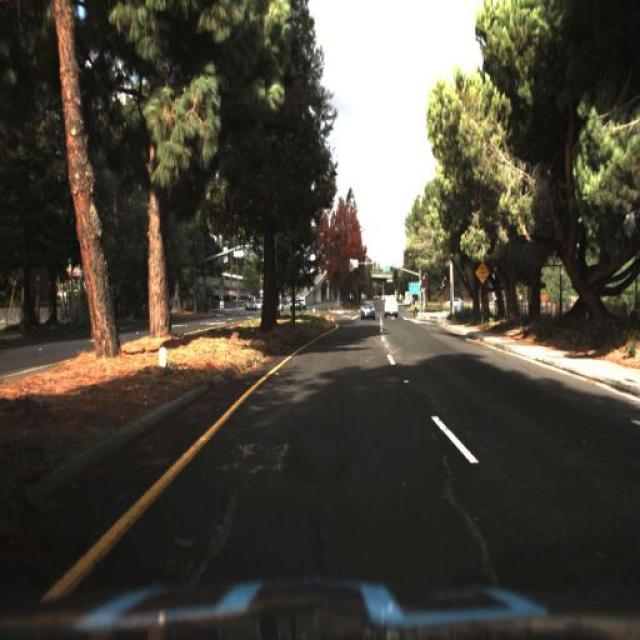car: (381, 293, 403, 319), (360, 300, 378, 318)
trafficLight-RedLeft: (419, 270, 428, 285)
